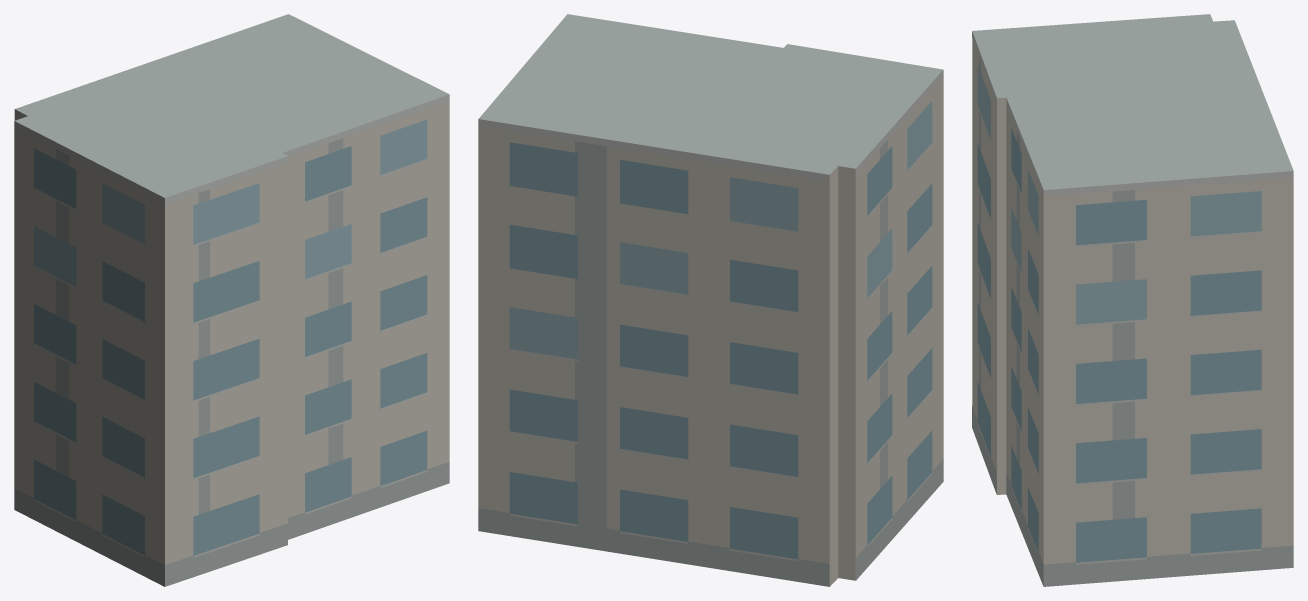
Rendered from survey-upis-32933348.glb.
3 views of the same model, side by side, from view 1: azimuth 30°, elevation 25°; view 2: azimuth 150°, elevation 25°; view 3: azimuth 270°, elevation 25° (orthographic). The views are drawn at different scales.
Visible parts, largest first — view 1: survey-upis-32933348.tmp; view 2: survey-upis-32933348.tmp; view 3: survey-upis-32933348.tmp.
Boxes of the visible parts, x1,y1,x2,y2 form: survey-upis-32933348.tmp: (14,14,449,586); survey-upis-32933348.tmp: (478,14,943,586); survey-upis-32933348.tmp: (972,14,1293,586).
Size of the model in its own units: 13.62 by 14.3 by 10.51.
